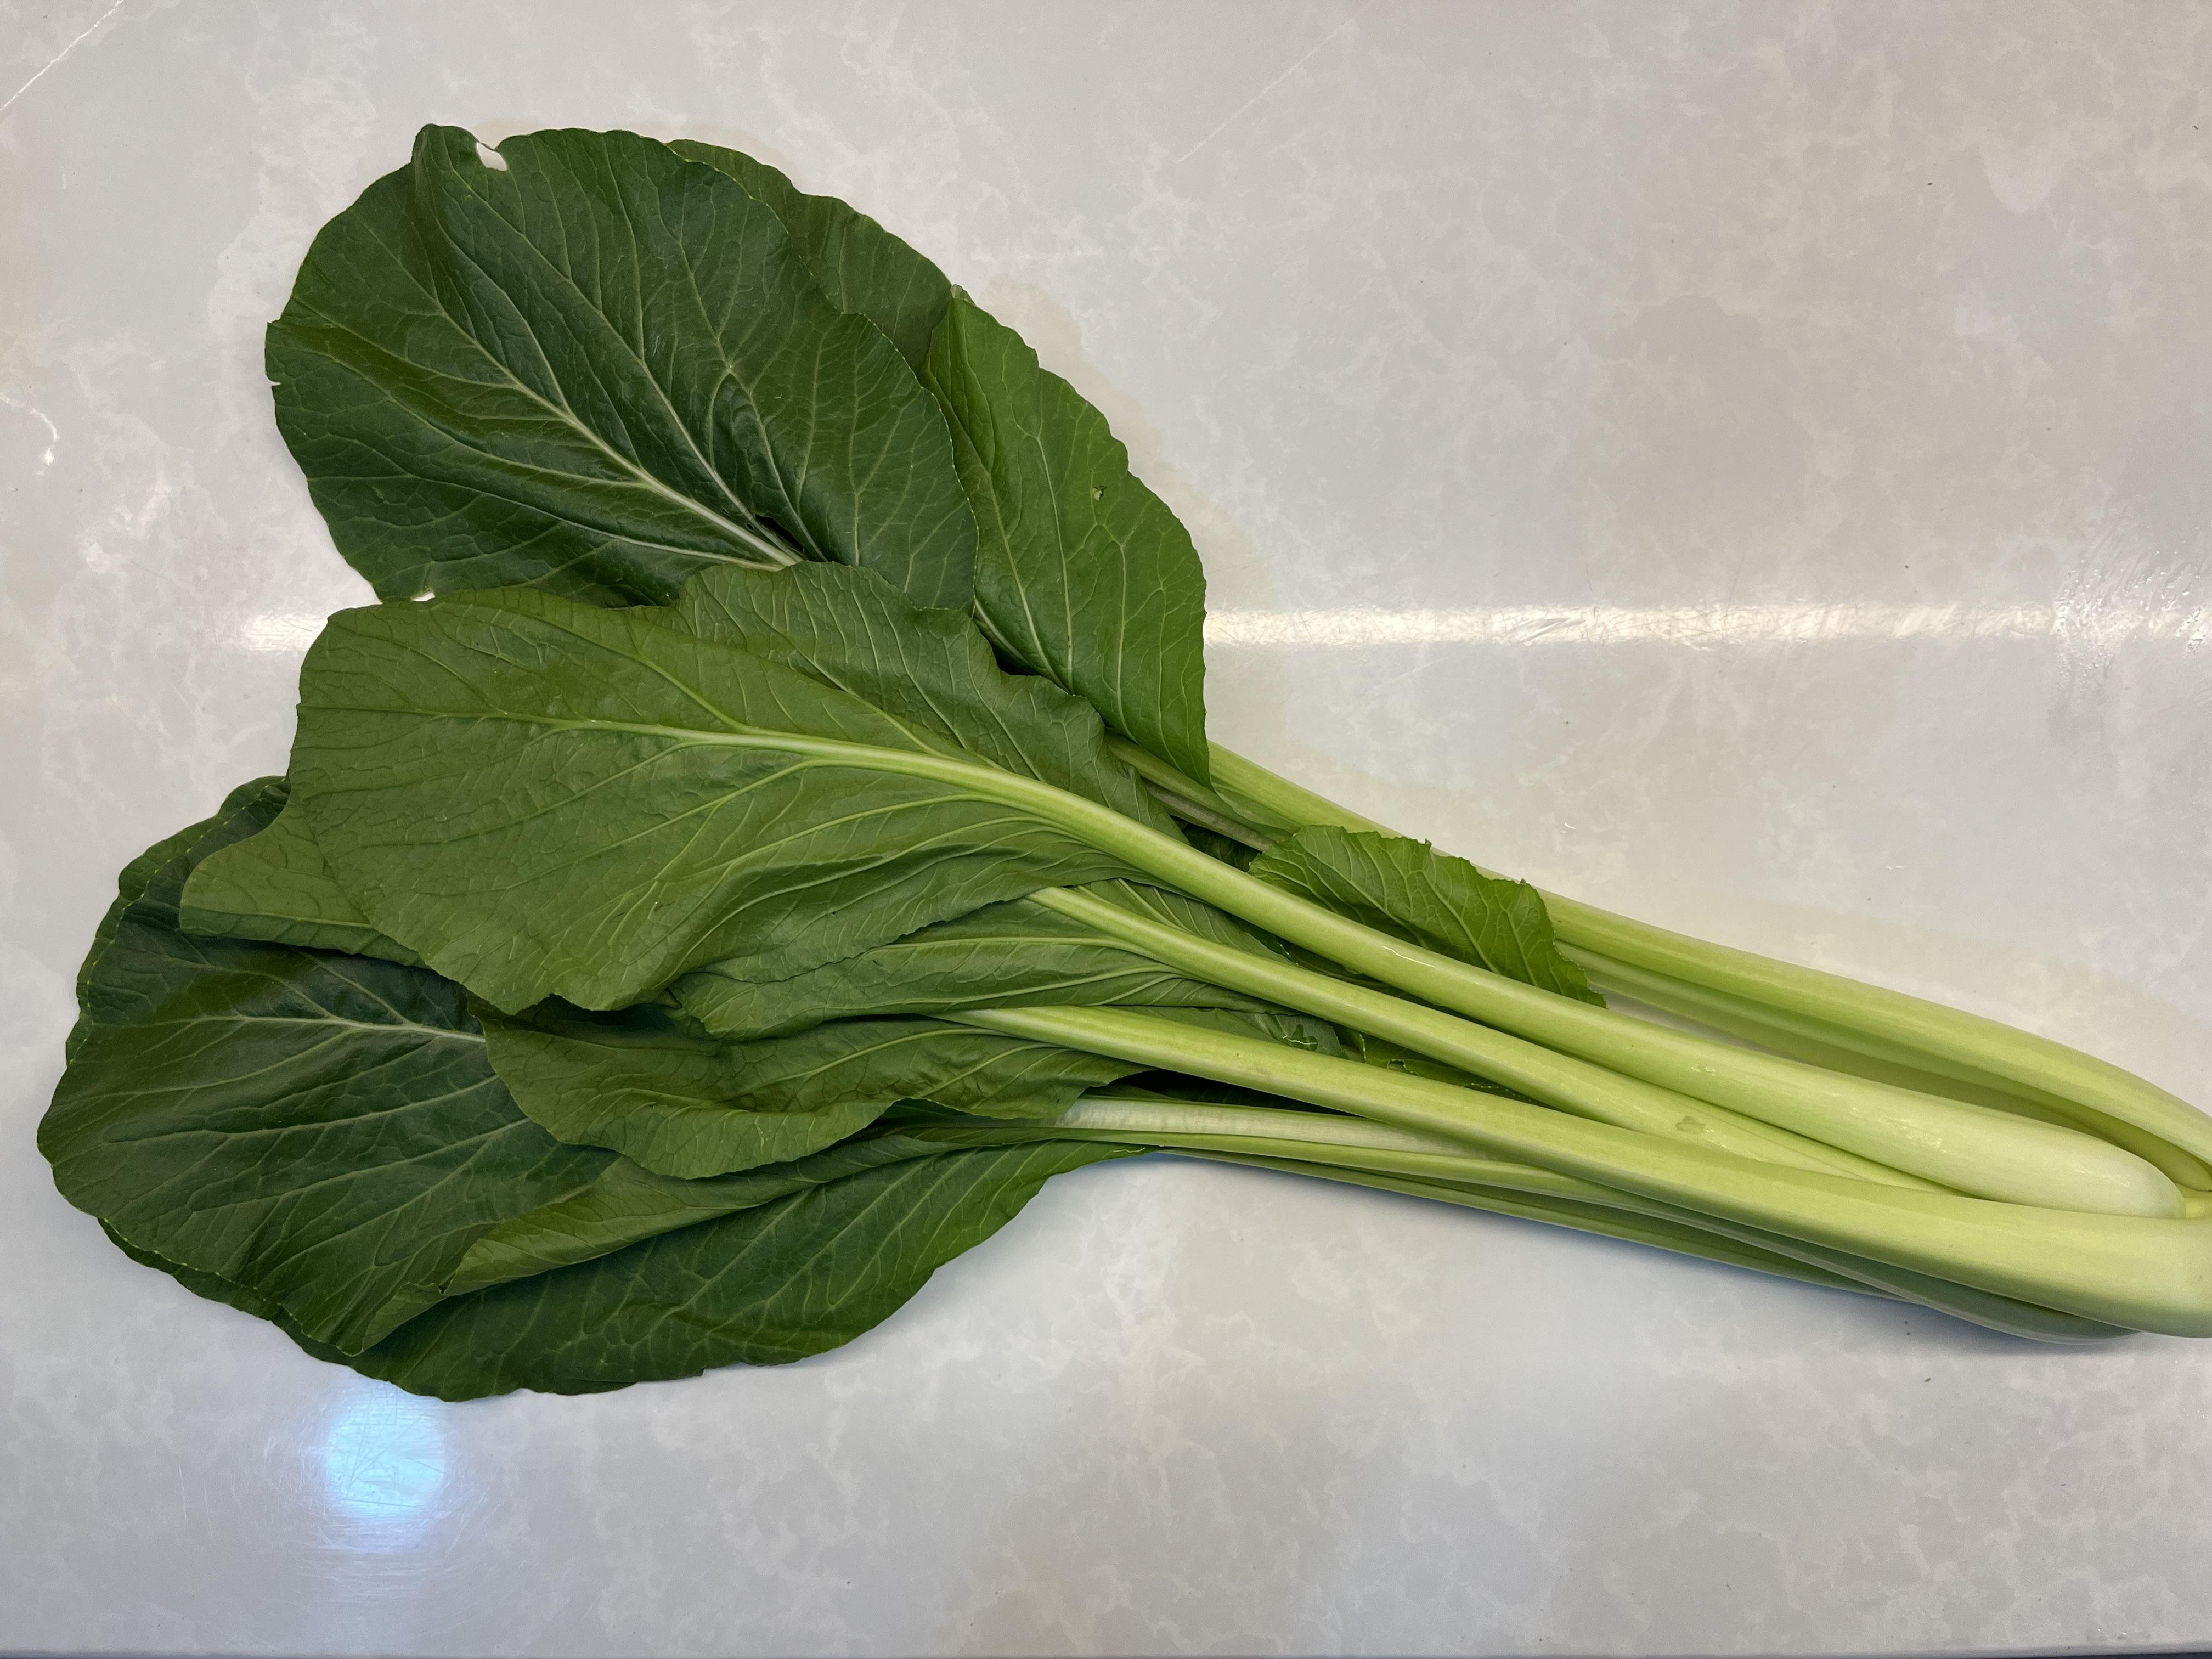Healthy-Pechay: (28, 138, 2128, 1305)
